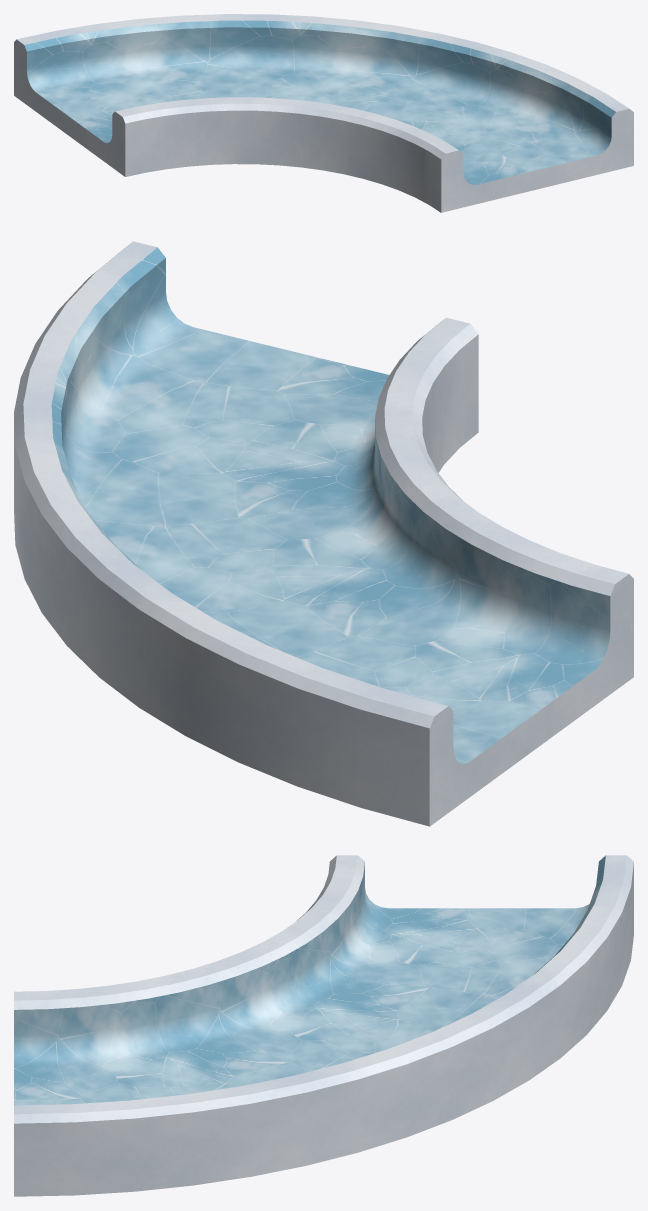
File: SM_SlideChute_CurveRight_90.fbx
The picture shows the model from 3 angles, top to bottom: view 1: azimuth 30°, elevation 25°; view 2: azimuth 150°, elevation 25°; view 3: azimuth 270°, elevation 25°; orthographic projection. The views are drawn at different scales.
Parts seen in each view (by area): view 1: SM_SlideChute_CurveRight_90; view 2: SM_SlideChute_CurveRight_90; view 3: SM_SlideChute_CurveRight_90.
Boxes of the visible parts, x1,y1,x2,y2 form: SM_SlideChute_CurveRight_90: [14, 14, 633, 212]; SM_SlideChute_CurveRight_90: [14, 241, 633, 826]; SM_SlideChute_CurveRight_90: [14, 855, 633, 1196].
Size of what is drawn, in the model's own units: 530 by 530 by 75.
